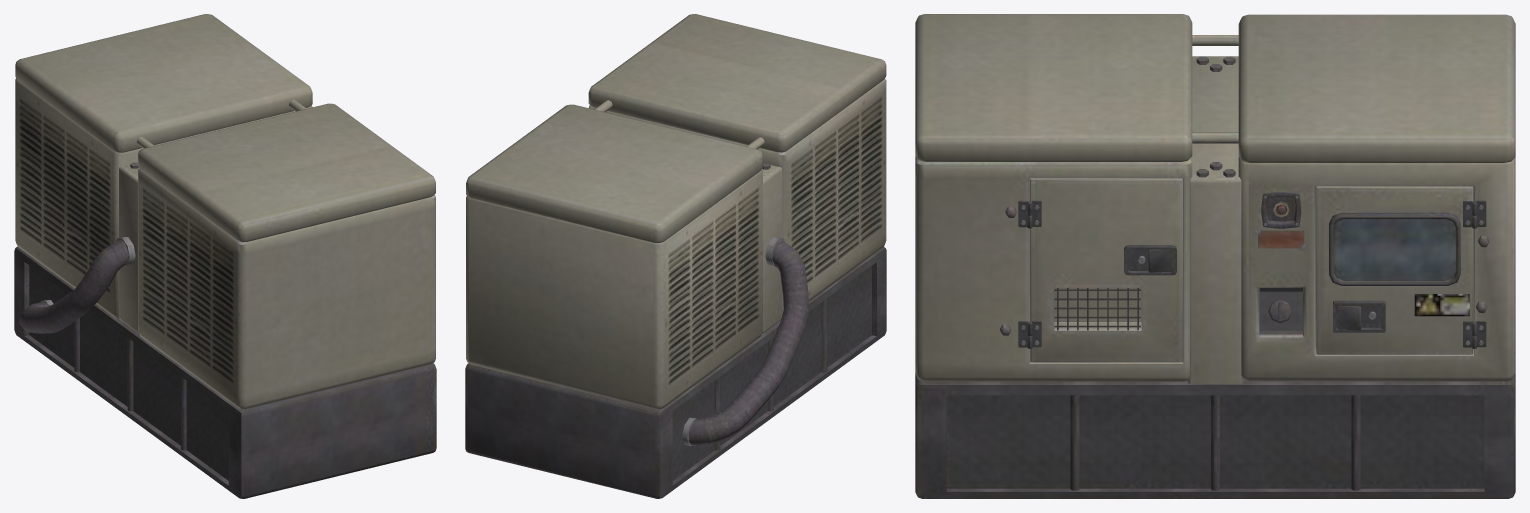
File: sewer-generator.glb
The picture shows the model from 3 angles, left to right: view 1: azimuth 30°, elevation 25°; view 2: azimuth 150°, elevation 25°; view 3: azimuth 270°, elevation 25°; orthographic projection. The views are drawn at different scales.
Parts seen in each view (by area): view 1: Object_2; view 2: Object_2; view 3: Object_2.
Part boxes in pixels (left/top/right/bottom): Object_2: left=14, top=14, right=436, bottom=498; Object_2: left=465, top=14, right=886, bottom=498; Object_2: left=915, top=14, right=1515, bottom=498.
Size of the model in its own units: 23.08 by 24.4 by 36.44.
1 material, 1 textured.
